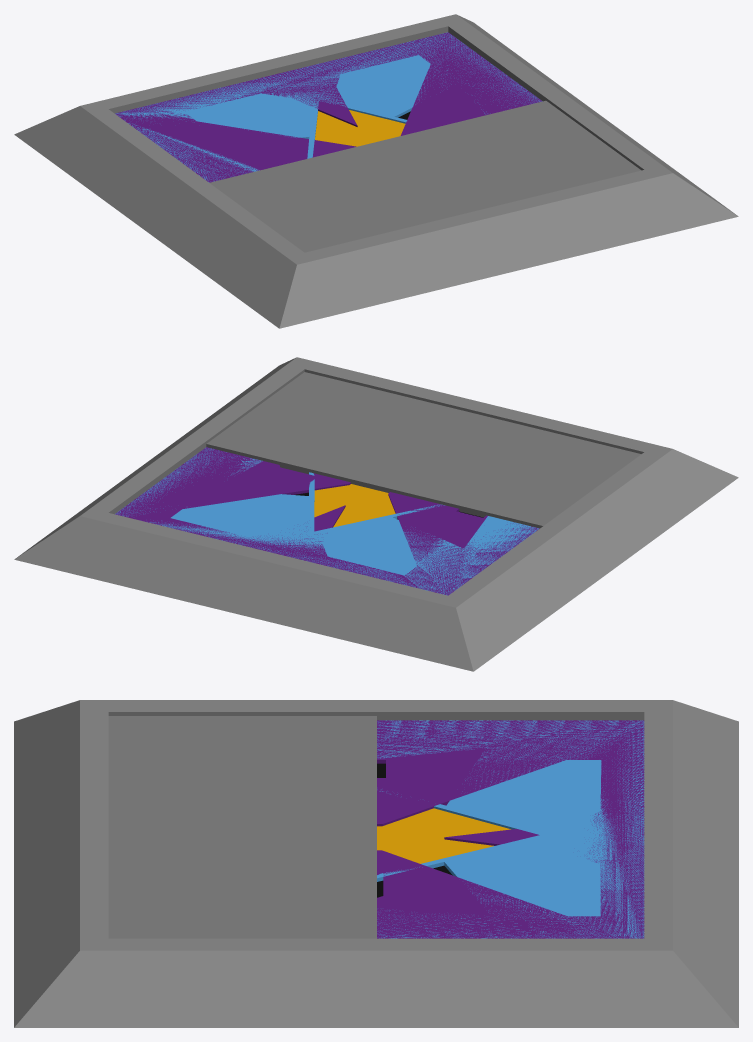
File: skill_plane.fbx
The picture shows the model from 3 angles, top to bottom: view 1: azimuth 30°, elevation 25°; view 2: azimuth 150°, elevation 25°; view 3: azimuth 270°, elevation 25°; orthographic projection. The views are drawn at different scales.
Visible parts, largest first — view 1: SkillPlane, SkillGate, ChaosPlate, Harmony; view 2: SkillPlane, SkillGate, Harmony, ChaosPlate; view 3: SkillPlane, SkillGate, ChaosPlate, Harmony.
Part boxes in pixels (x1,y1,x2,y2): SkillPlane: (14, 14, 738, 328); SkillGate: (209, 100, 641, 252); ChaosPlate: (115, 32, 542, 182); Harmony: (115, 32, 542, 182); SkillPlane: (14, 357, 738, 671); SkillGate: (206, 372, 641, 528); Harmony: (115, 448, 538, 595); ChaosPlate: (115, 447, 539, 595); SkillPlane: (14, 700, 738, 1027); SkillGate: (108, 716, 376, 938); ChaosPlate: (377, 720, 644, 938); Harmony: (377, 720, 644, 938).
Size of the model in its own units: 118 by 8.89 by 118.
